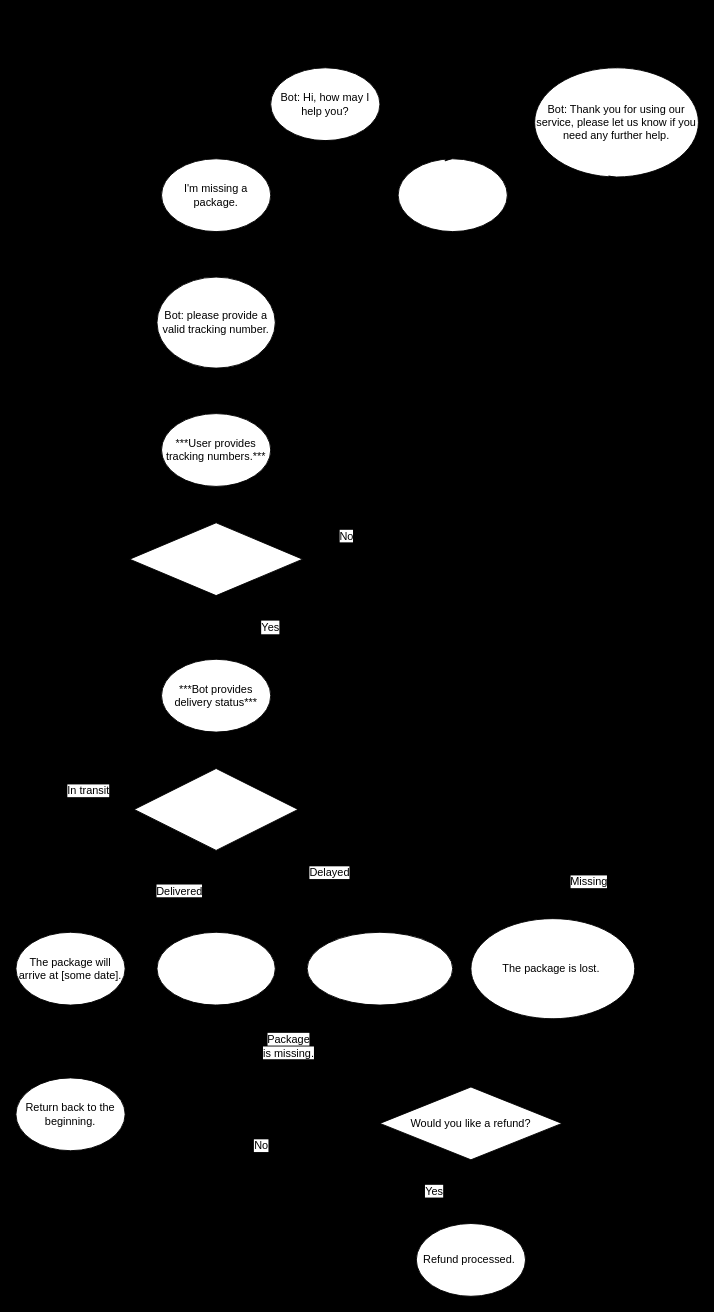
This 714x1312 diagram has some shape labels left out. The box of each missing label's shape, as (x1, y1, x2, y2) in pixels:
I'm good.: (397, 158, 507, 232)
Is tracking number valid?: (129, 522, 303, 596)
The package is delayed. It will arrive at [some date].: (306, 931, 453, 1005)
The package was delivered: (156, 931, 275, 1005)
What is the status?: (133, 768, 298, 850)
